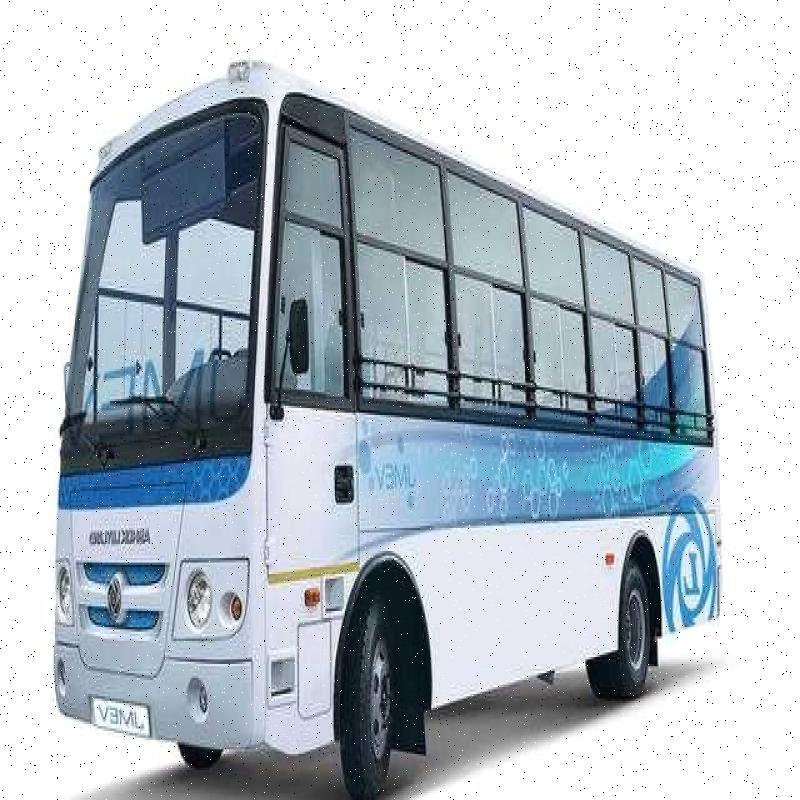bus: (43, 48, 735, 800)
